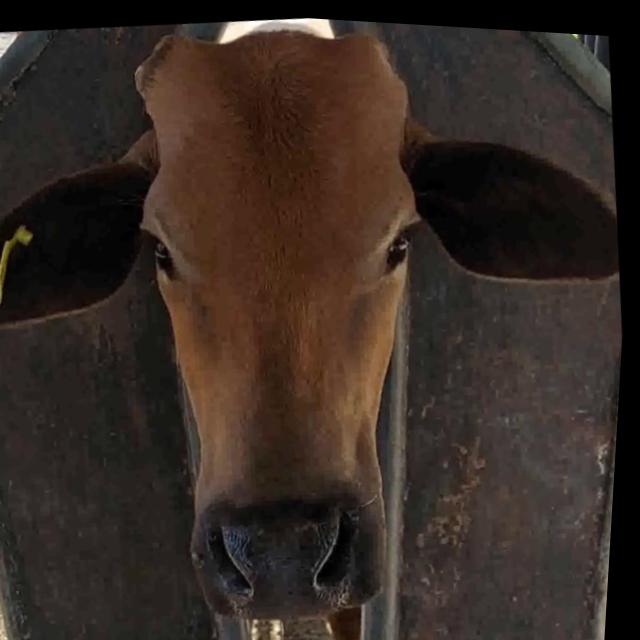cowFace: (107, 6, 473, 635)
